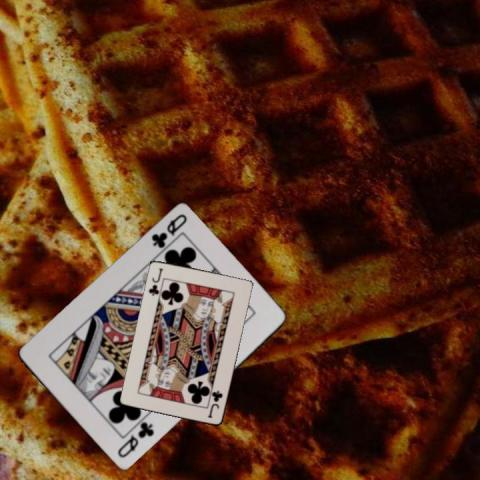Jc: (146, 266, 165, 298), (205, 388, 224, 419)
Qc: (114, 419, 155, 460), (148, 211, 189, 250)
